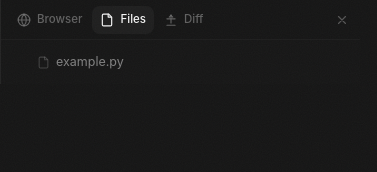
Test: workspace surfaces › renders an opened source file with language-aware highlighting
This screenshot has width=377, height=172.
Click the button "example.py": (90, 61) [9,48,352,76]
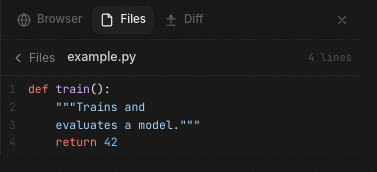
Expected: the text "4 lines" is shown, [308,50,352,65]
Expected: the element with class "hljs" is shown, [9,81,200,149]
Expected: the text with class "hljs-keyword" reads "def", [28,81,49,96]
